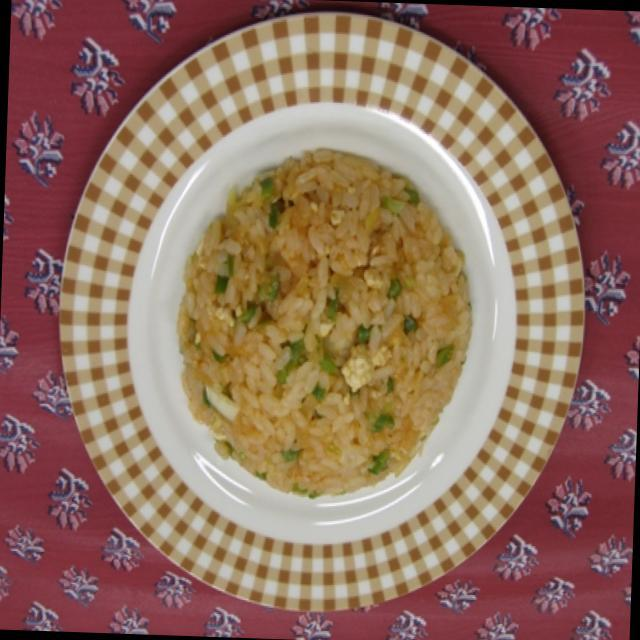Rice: (166, 140, 479, 514)
